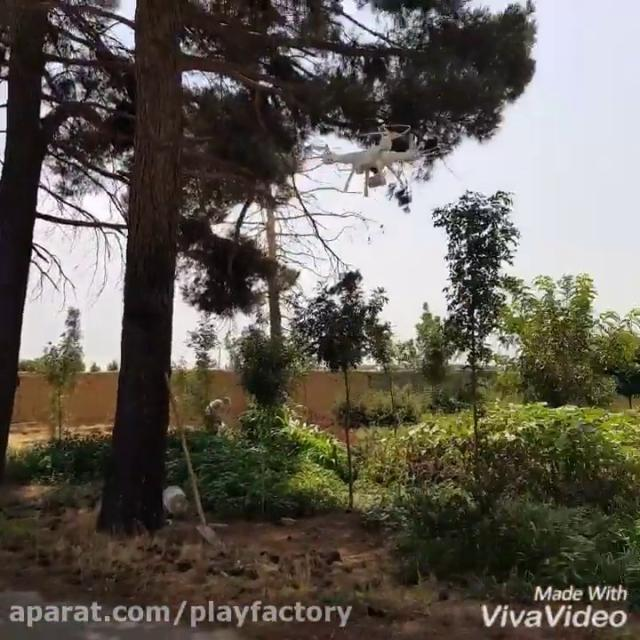drone: (296, 124, 446, 198)
